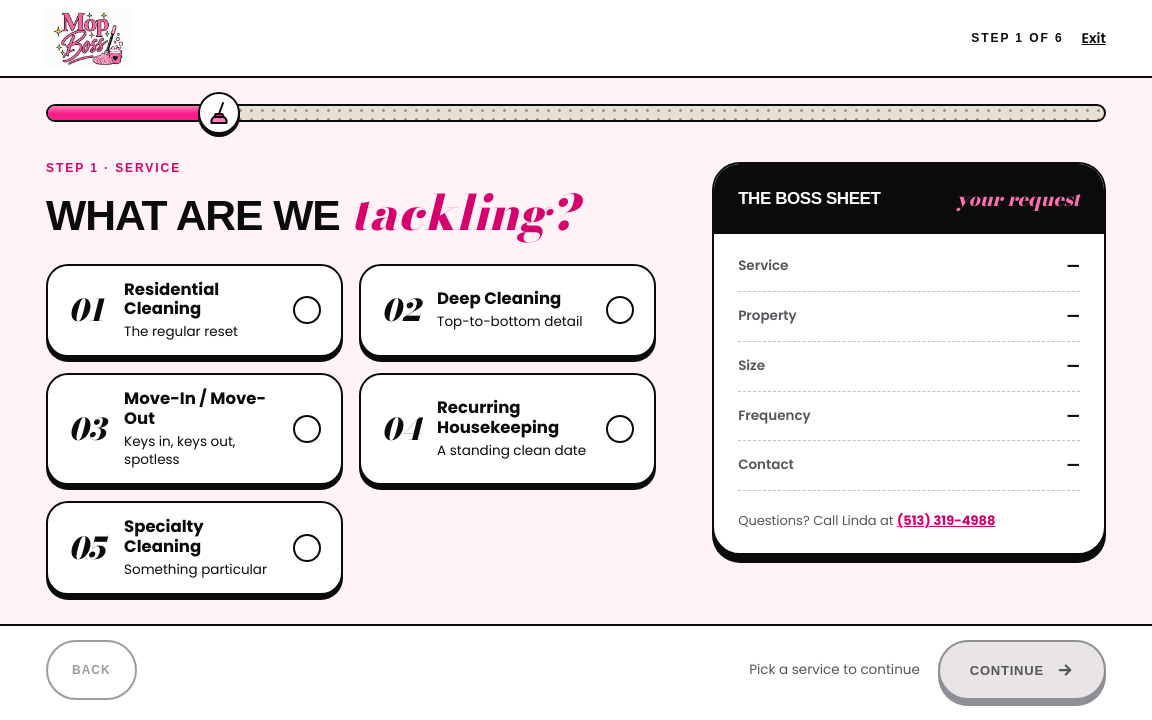
Scenario: QuoteFlow › marks the chosen option with aria-pressed
Step 1. Click the button "02 Deep Cleaning Top-to-bottom detail" → (508,310), box [359,264,656,357]
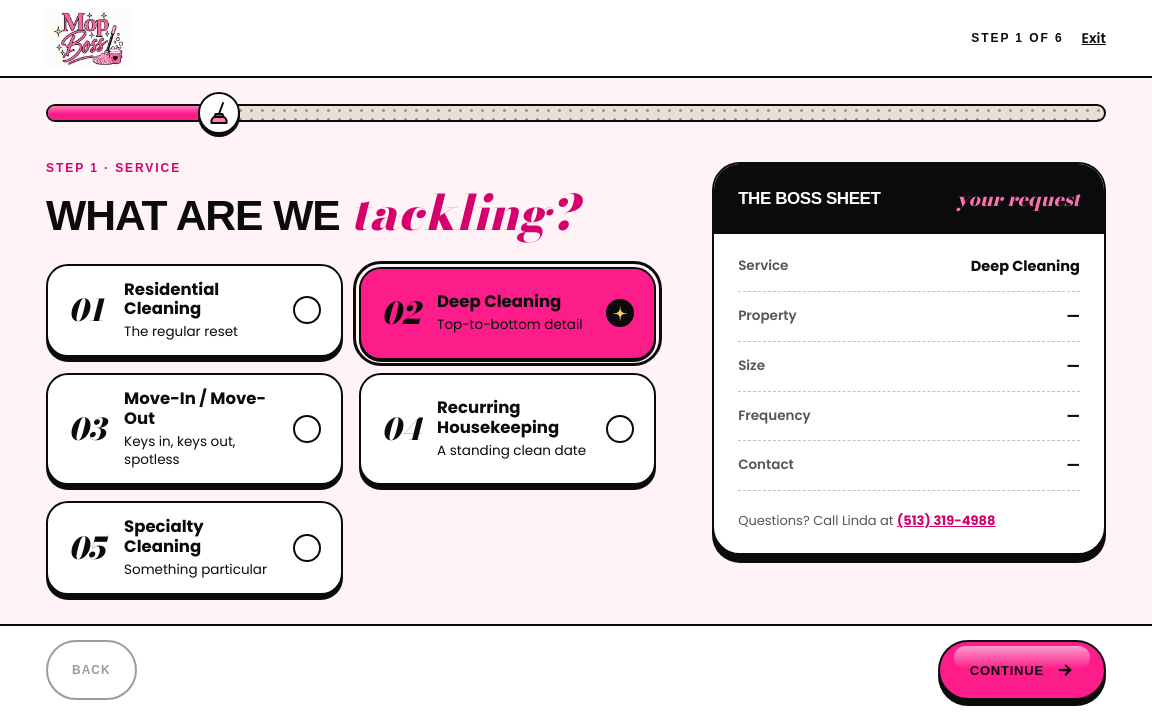
Result: the button "02 Deep Cleaning Top-to-bottom detail" is pressed at [359,267,656,360]
